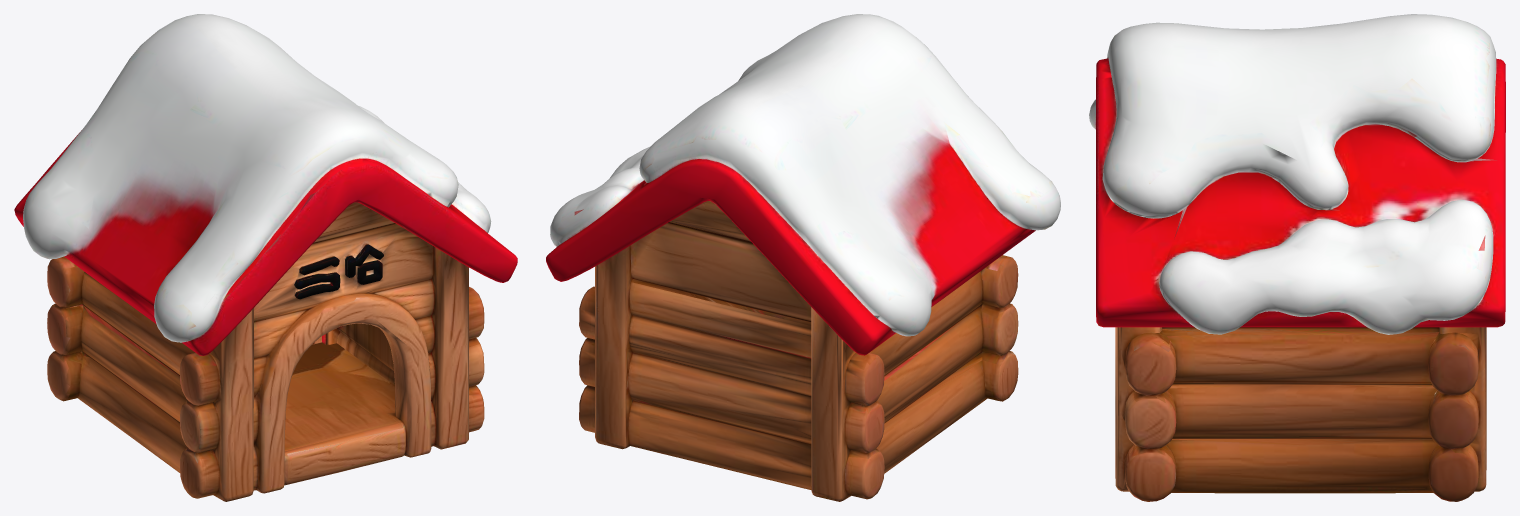
File: doghouse.glb
3 renders of one model, left to right at view 1: azimuth 30°, elevation 25°; view 2: azimuth 150°, elevation 25°; view 3: azimuth 270°, elevation 25°, orthographic. The views are drawn at different scales.
Visible parts, largest first — view 1: doghouse; view 2: doghouse; view 3: doghouse.
Boxes of the visible parts, x1,y1,x2,y2 form: doghouse: (14,14,517,501); doghouse: (546,14,1060,501); doghouse: (1089,14,1505,501).
Size of the model in its own units: 1.06 by 1 by 0.9347.
Materials: 1 (1 with a texture image).
